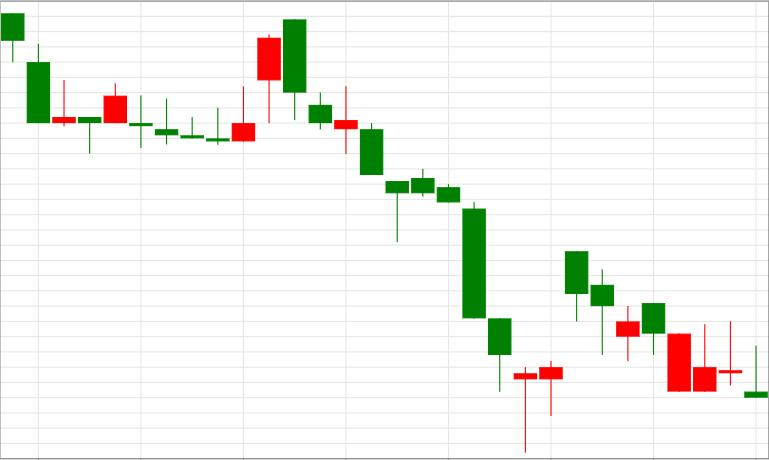hammer_rise: (360, 123, 512, 391)
